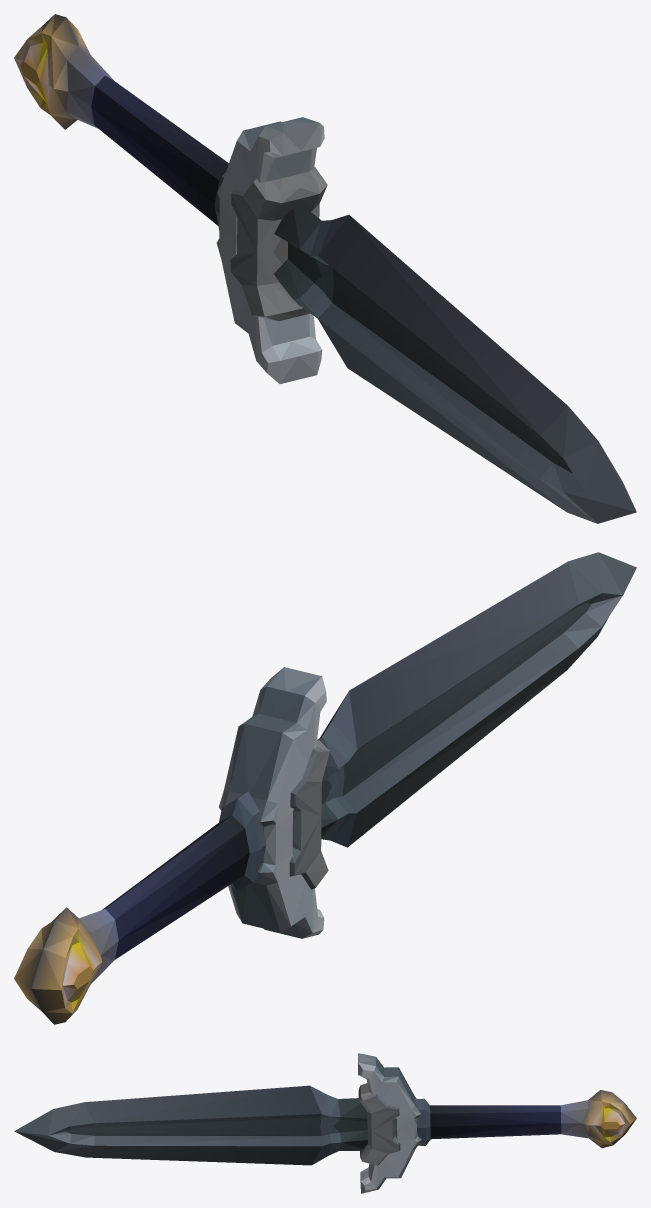
Rendered from weapon_sword_silver_2.fbx.
The picture shows the model from 3 angles, top to bottom: view 1: azimuth 30°, elevation 25°; view 2: azimuth 150°, elevation 25°; view 3: azimuth 270°, elevation 25°; orthographic projection. The views are drawn at different scales.
Visible parts, largest first — view 1: weapon_sword_silver_2; view 2: weapon_sword_silver_2; view 3: weapon_sword_silver_2.
Boxes of the visible parts, <box> form: weapon_sword_silver_2: <box>14,14,636,523</box>; weapon_sword_silver_2: <box>14,552,636,1024</box>; weapon_sword_silver_2: <box>14,1053,636,1193</box>.
Bounding box in the file's own units: 0.1205 × 0.4718 × 2.03.
